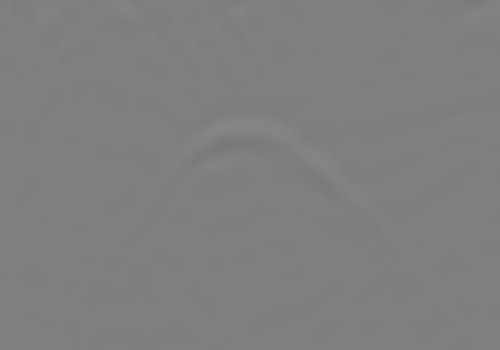hyperbola: (94, 119, 428, 308)
